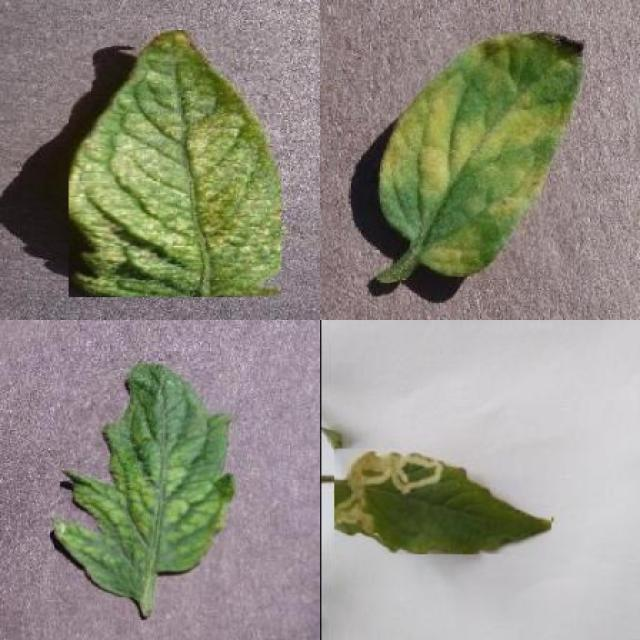Leaf Miner: (334, 448, 552, 555)
Leaf Mold: (380, 32, 586, 277)
Mosaic Virus: (54, 361, 237, 598)
Spider Mites: (68, 30, 282, 297)
